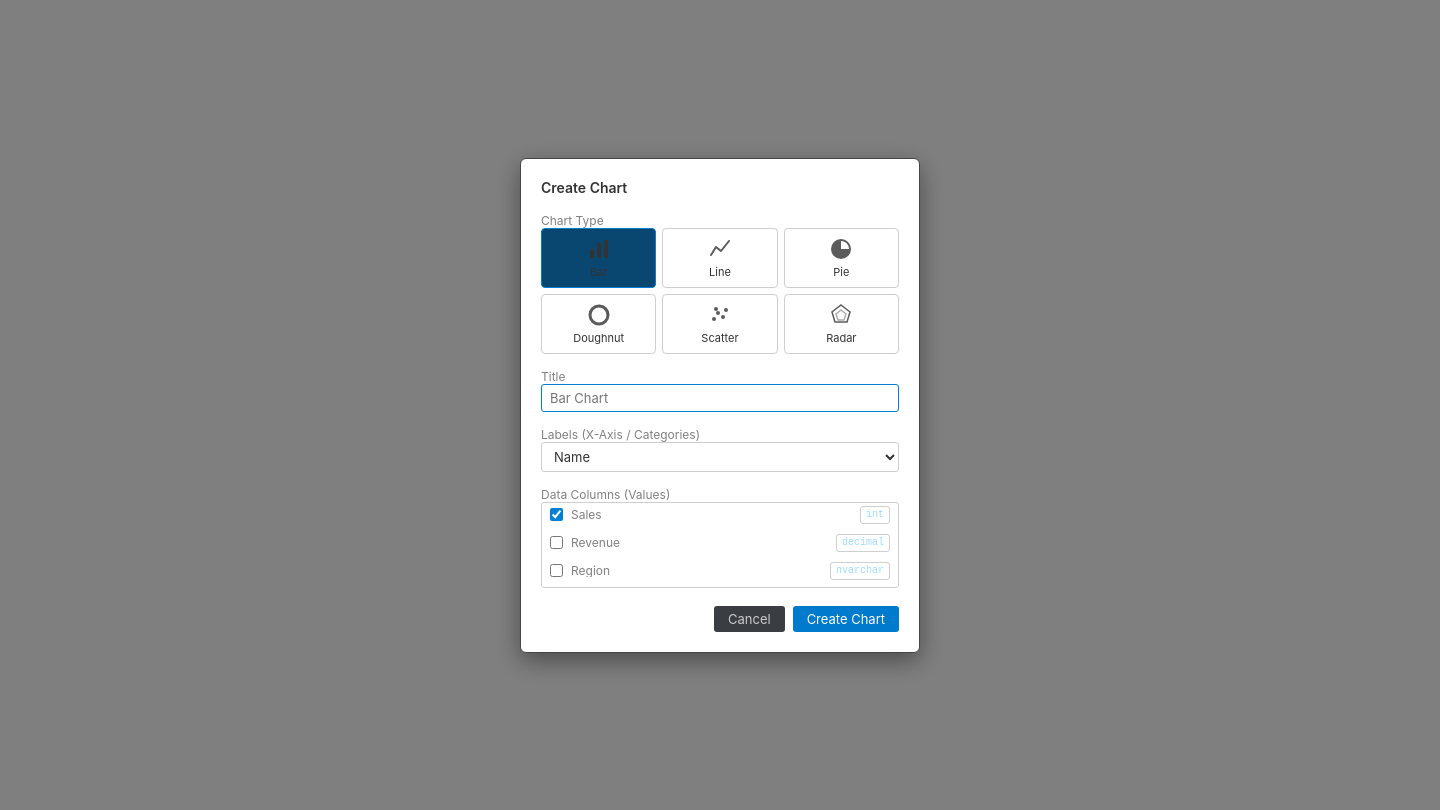
ChartConfigDialog › disables Create button when no data columns selected
The image size is (1440, 810).
# Uncheck the auto-selected column
Click the checkbox with test id "chart-data-col-Sales" at (556, 514), box [550, 508, 563, 521]
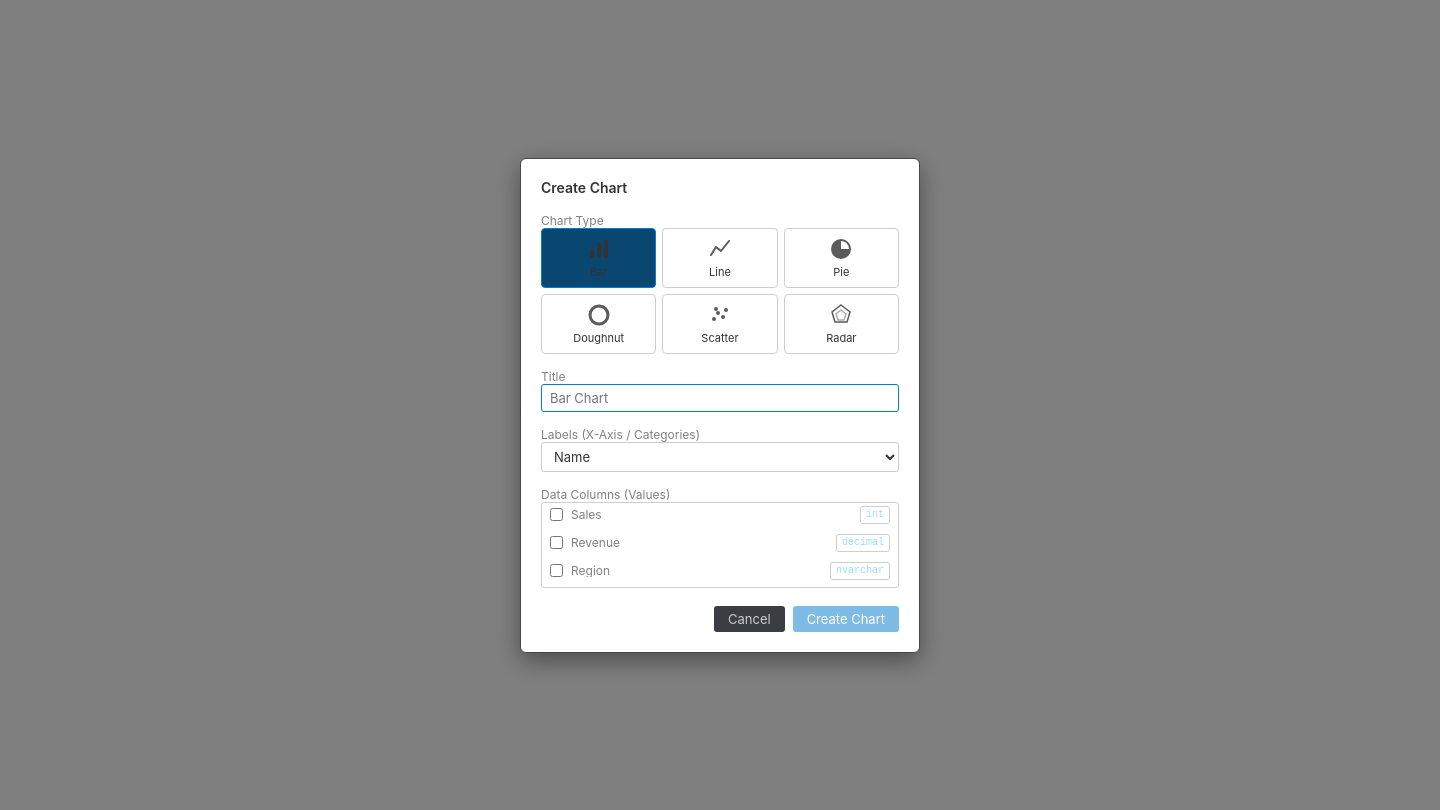
Check: the button with test id "chart-create-btn" is disabled, box [793, 606, 899, 632]
